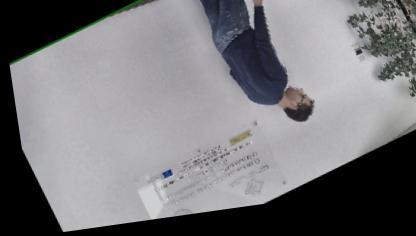knife: (243, 0, 274, 5)
